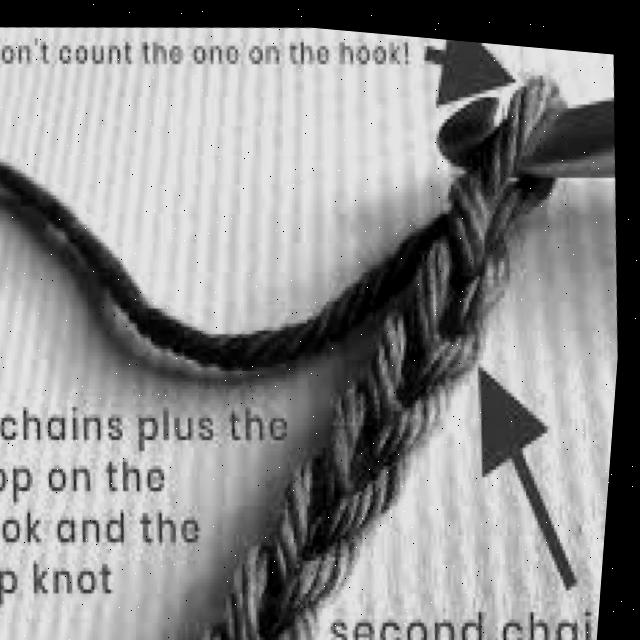ch: (271, 455, 370, 635), (321, 365, 417, 536), (412, 226, 490, 389), (446, 164, 513, 333), (375, 308, 453, 444), (231, 537, 330, 640)
